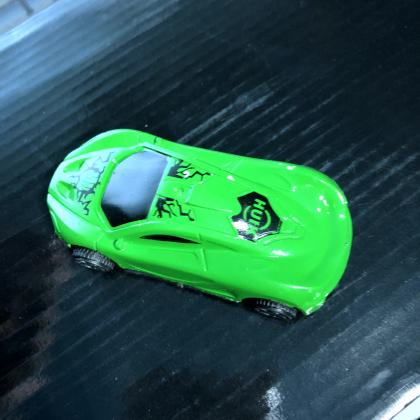Car: (40, 120, 360, 326)
